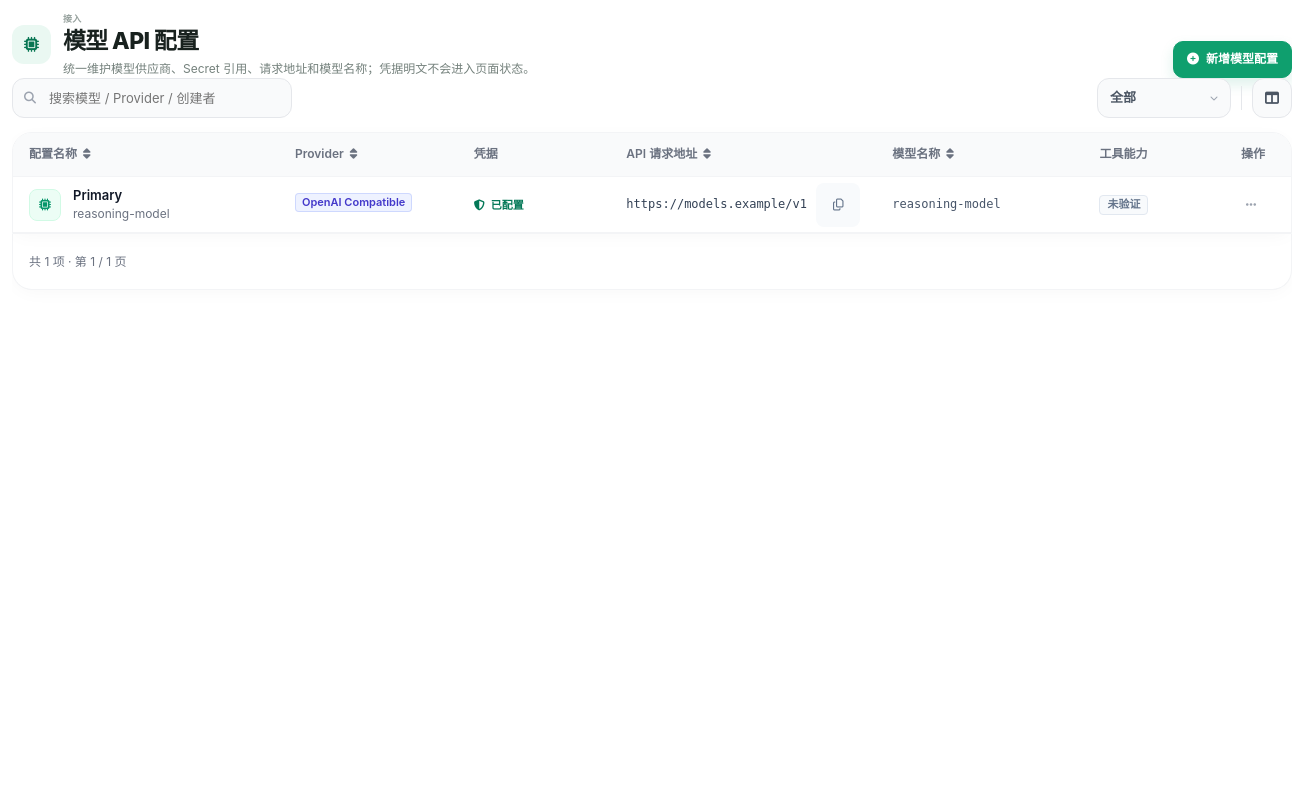
model config v1 behavior › keeps a failure toast when the verify request itself throws
Click the button named "更多操作" at (1251, 205), box left=1233, top=187, right=1269, bottom=223
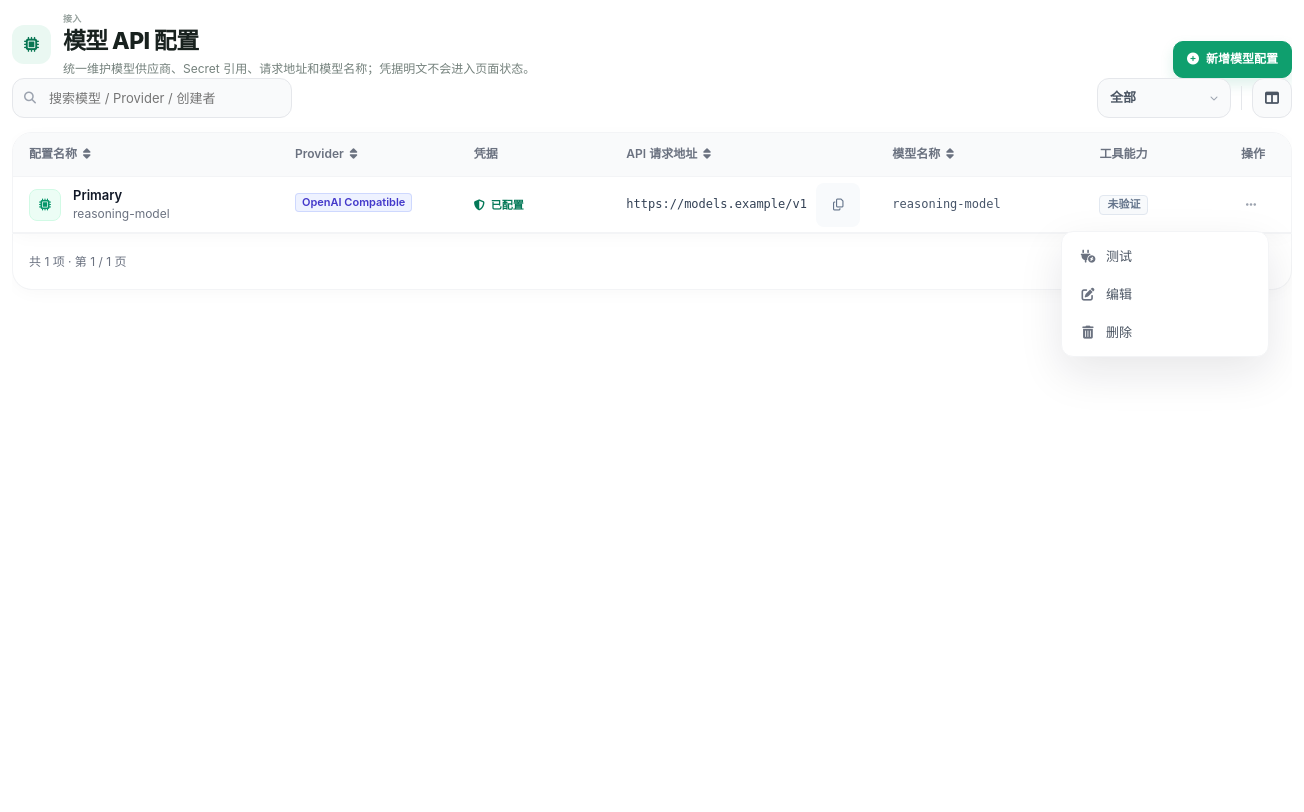
Click the menu item with aria-label "测试" at (1165, 256), box left=1068, top=238, right=1262, bottom=274
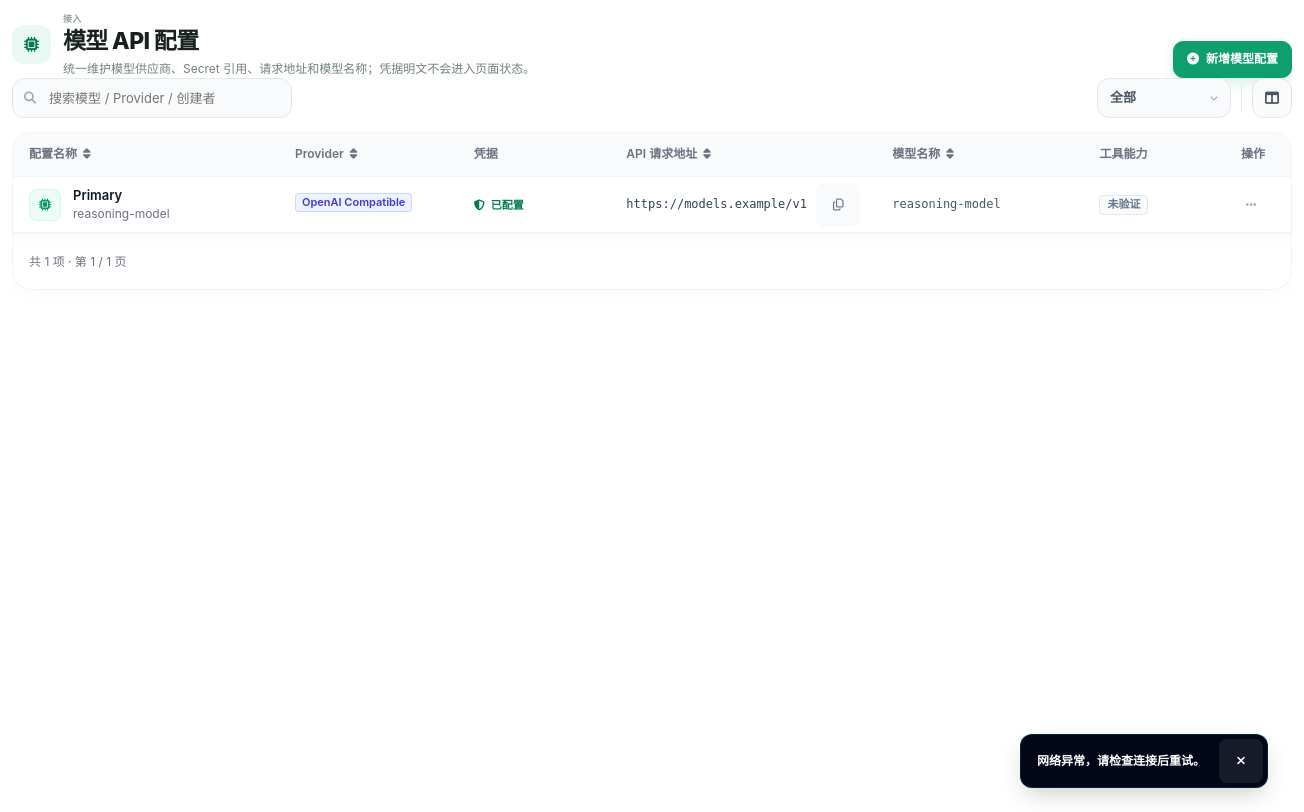
Expected: the text "网络异常，请检查连接后重试。" is shown, left=1037, top=752, right=1205, bottom=770
